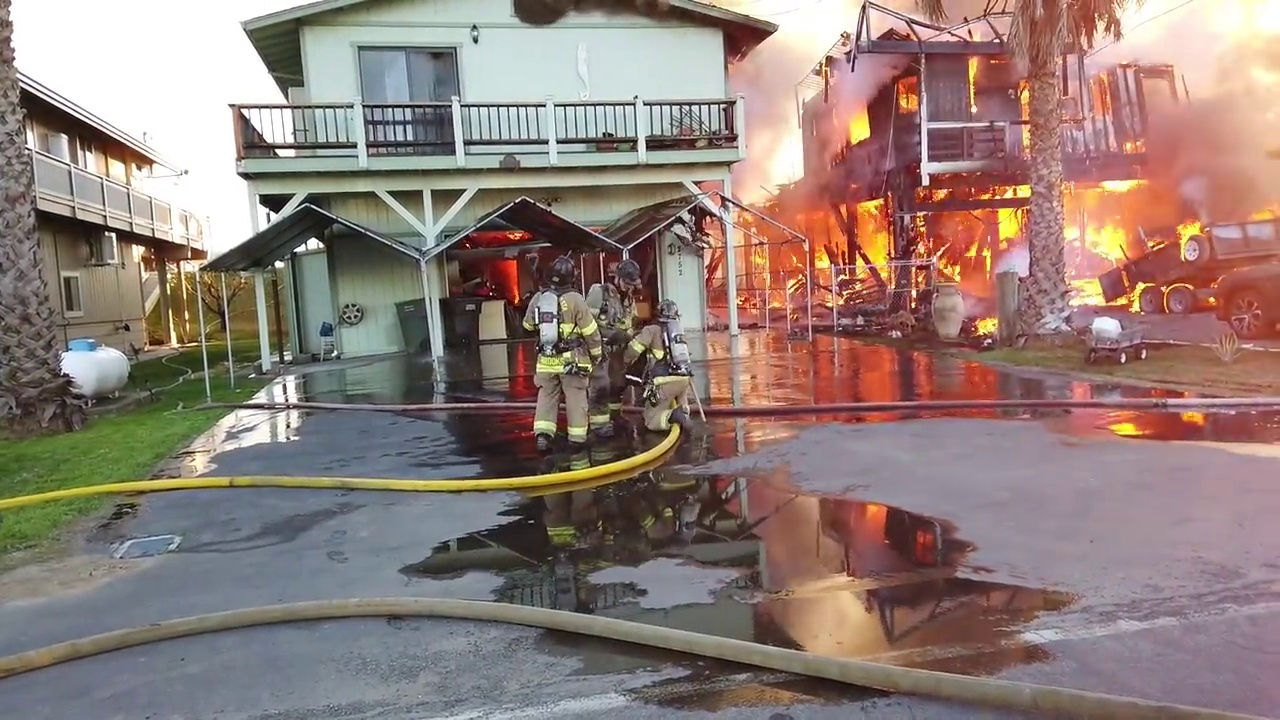fire: (702, 174, 1145, 314), (1129, 281, 1209, 316), (1172, 220, 1225, 268), (955, 311, 1000, 351), (842, 101, 871, 145), (894, 77, 919, 115)
smoke: (1146, 1, 1280, 212), (731, 35, 818, 173), (825, 55, 907, 92)
